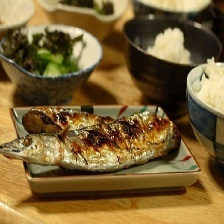rice: (187, 55, 224, 115)
